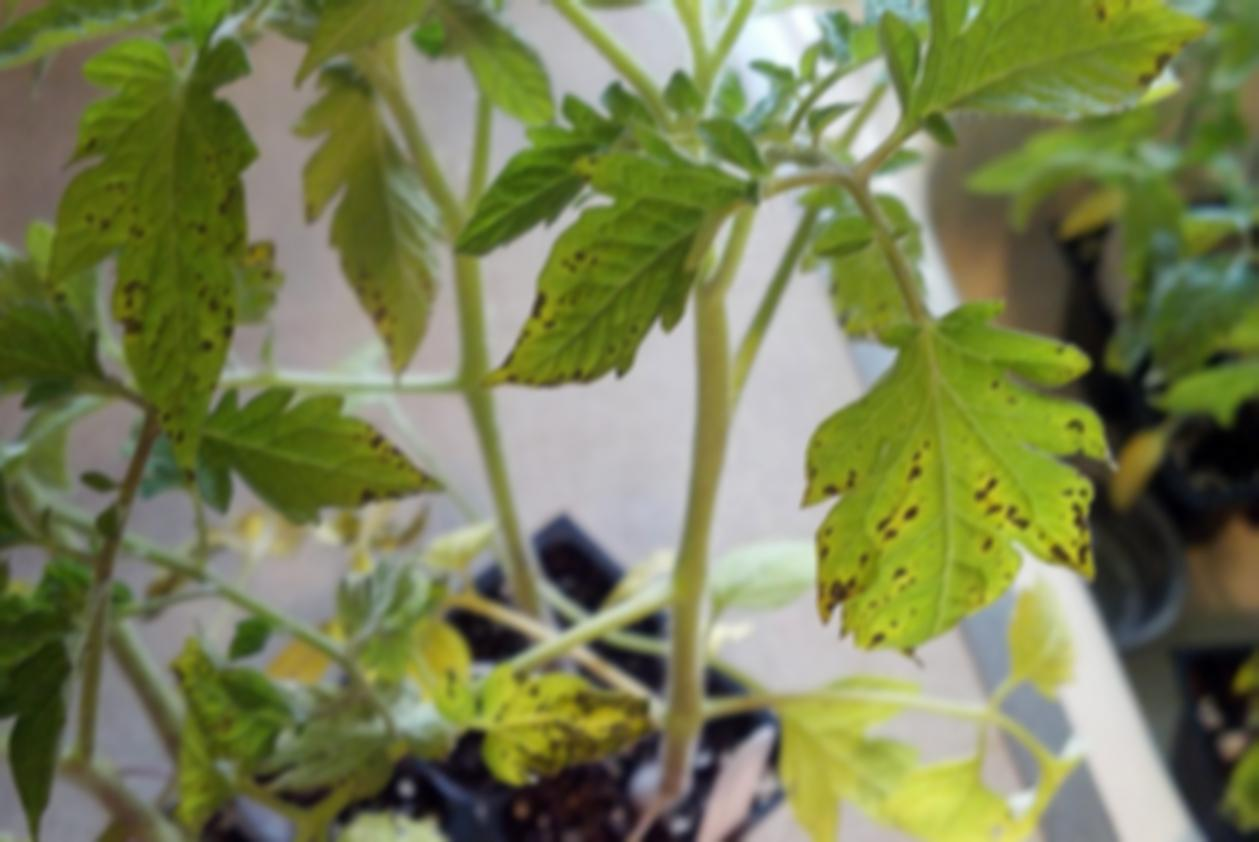Tomato Septoria leaf spot: (791, 325, 1113, 703), (38, 57, 274, 507), (458, 134, 777, 395), (153, 384, 460, 554), (460, 650, 670, 804)
